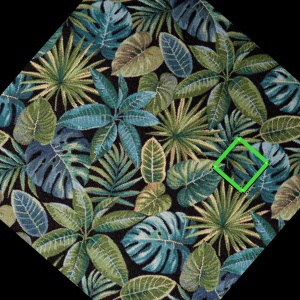square: (210, 134, 271, 195)
